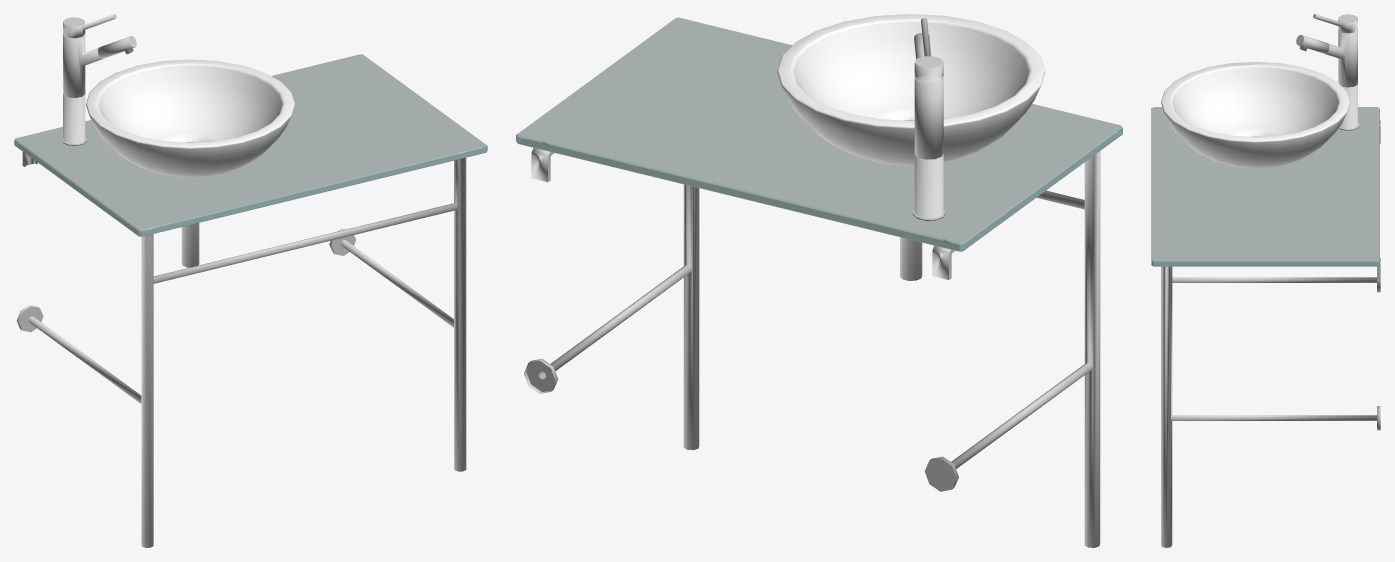
File: vanity-basin.glb
3 renders of one model, left to right at view 1: azimuth 30°, elevation 25°; view 2: azimuth 150°, elevation 25°; view 3: azimuth 270°, elevation 25°, orthographic. The views are drawn at different scales.
Parts seen in each view (by area): view 1: C-nova glass, C-nova bowl, C-legs, C-veneto, C-waste; view 2: C-nova glass, C-nova bowl, C-legs, C-veneto, C-waste; view 3: C-nova glass, C-nova bowl, C-legs, C-veneto.
Boxes of the visible parts, x1,y1,x2,y2 form: C-nova glass: (14,54,487,236); C-nova bowl: (86,59,294,177); C-legs: (16,151,466,547); C-veneto: (61,14,136,145); C-waste: (181,223,199,267); C-nova glass: (516,17,1122,251); C-nova bowl: (777,14,1045,165); C-legs: (524,141,1100,547); C-veneto: (912,18,945,220); C-waste: (900,237,922,280); C-nova glass: (1151,107,1379,266); C-nova bowl: (1161,61,1349,168); C-legs: (1161,120,1380,547); C-veneto: (1296,14,1359,130).
Size of the model in its own units: 0.804 by 1.01 by 0.506.
